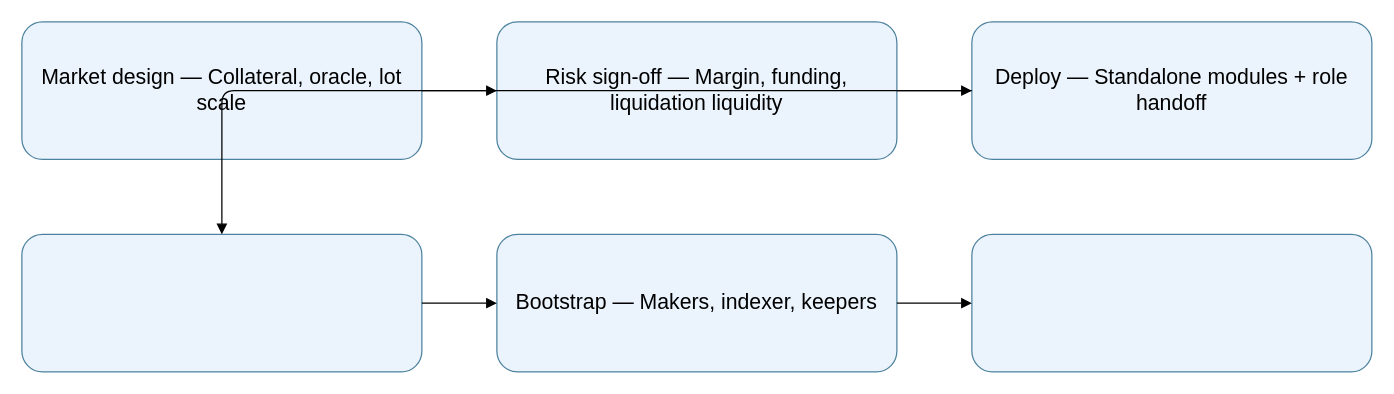
Some shapes in this 1394 by 394 pixel diagram are drawn without their labels. The shapes that lost their labels are listed below. From the top down, each one's box as (x1, y1, x2, y2) in pixels, then its label:
(21, 233, 422, 372): Verify — Manifest + exact runtime code
(971, 233, 1372, 372): Operate — Monitor, reconcile, recover
